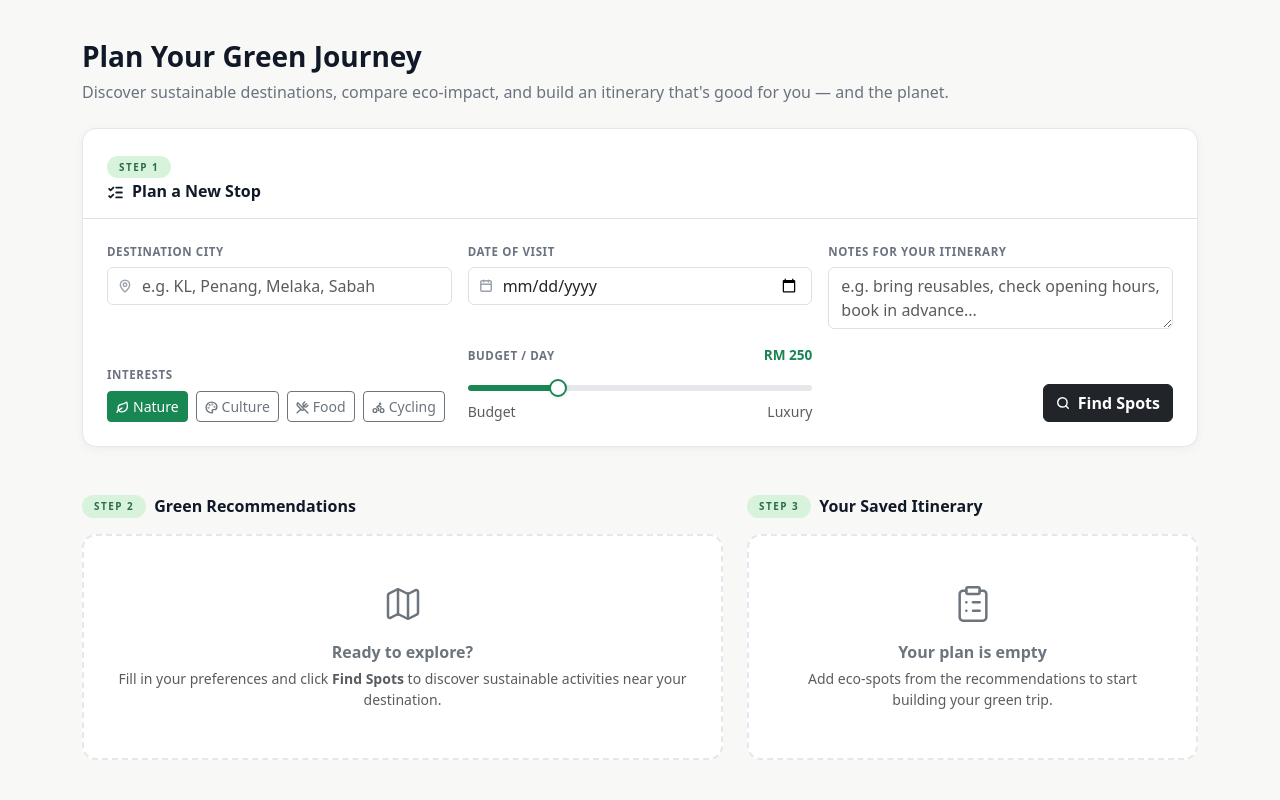
Scenario: ItineraryPage › shows KL results after submitting with destination "kl" and nature interest
In the field with placeholder "e.g. KL, Penang, Melaka, Sabah": (279, 286) [107,267,452,305], type "kl"
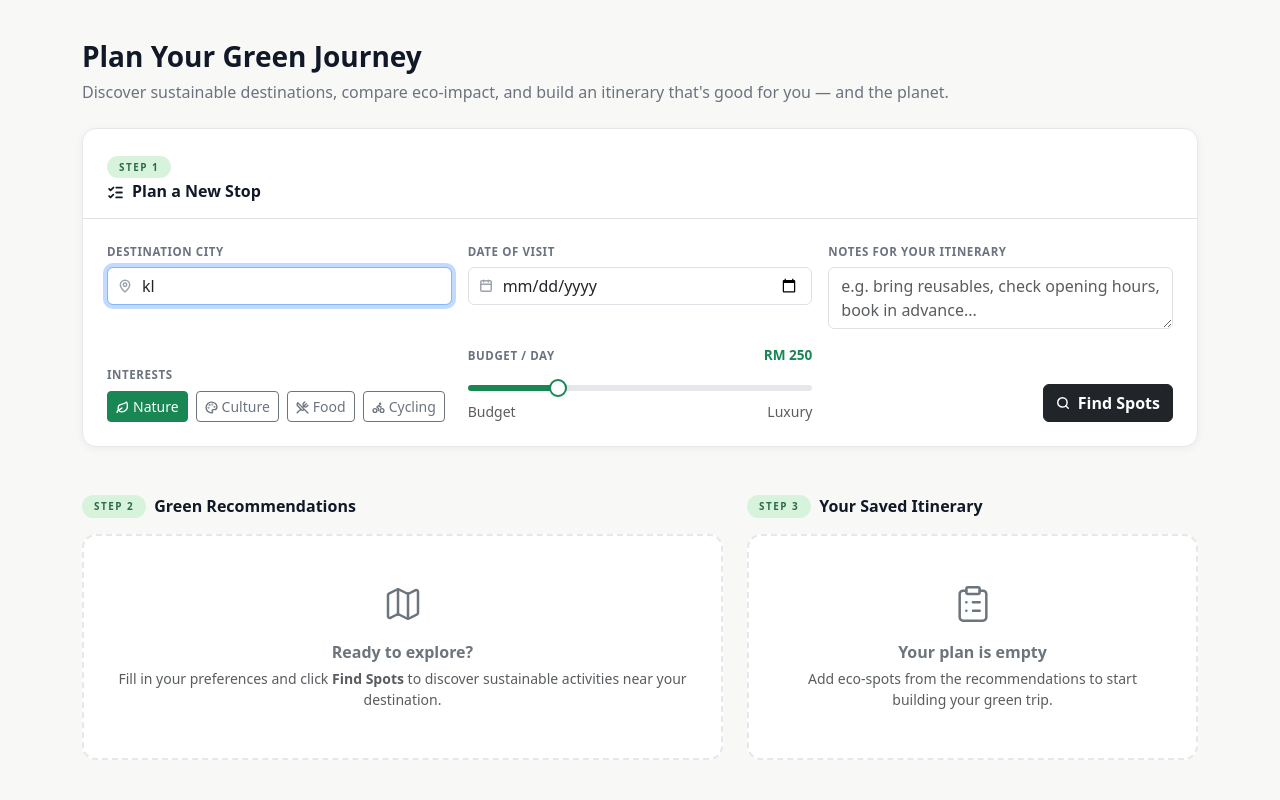
Click the button "Find Spots": (1108, 403) [1043,384,1173,422]
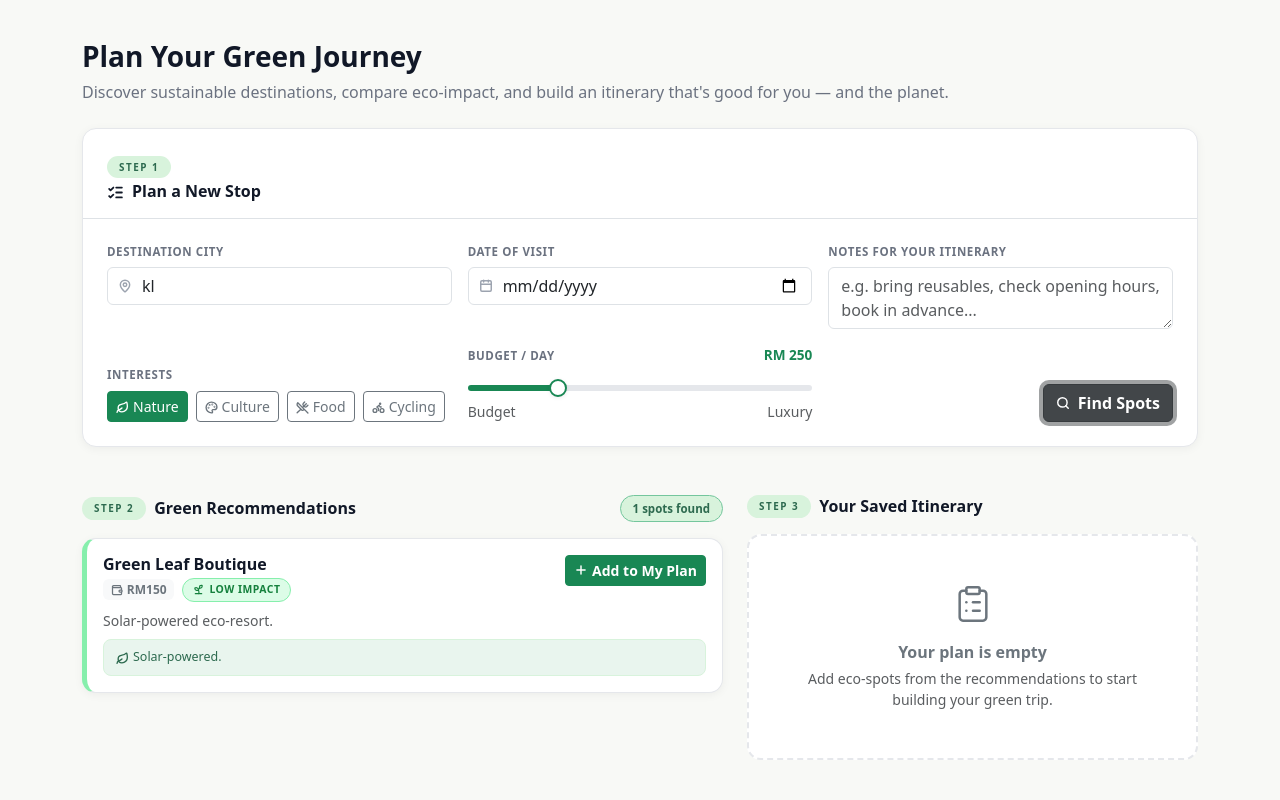
Expected: the heading "Green Leaf Boutique" is shown, [103,555,292,574]
